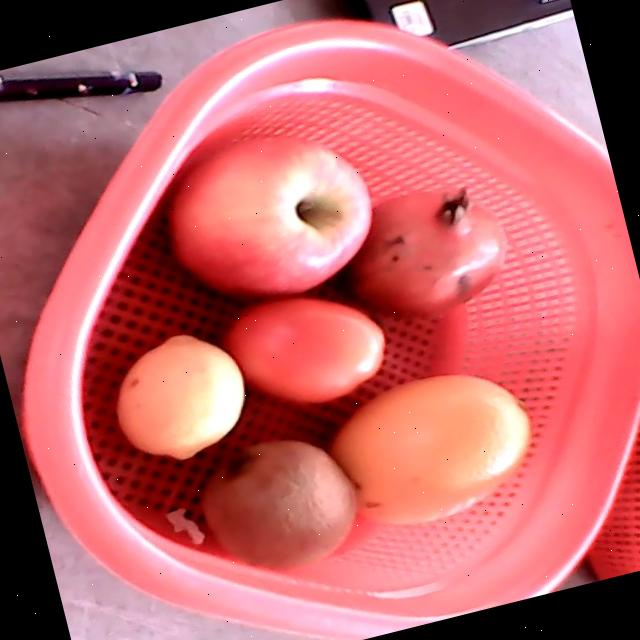apple: (167, 138, 374, 297)
kiwi: (201, 440, 355, 570)
lemon: (115, 334, 246, 460)
orange: (330, 372, 530, 527)
pomegranate: (346, 186, 506, 315)
tomato: (223, 297, 384, 405)
